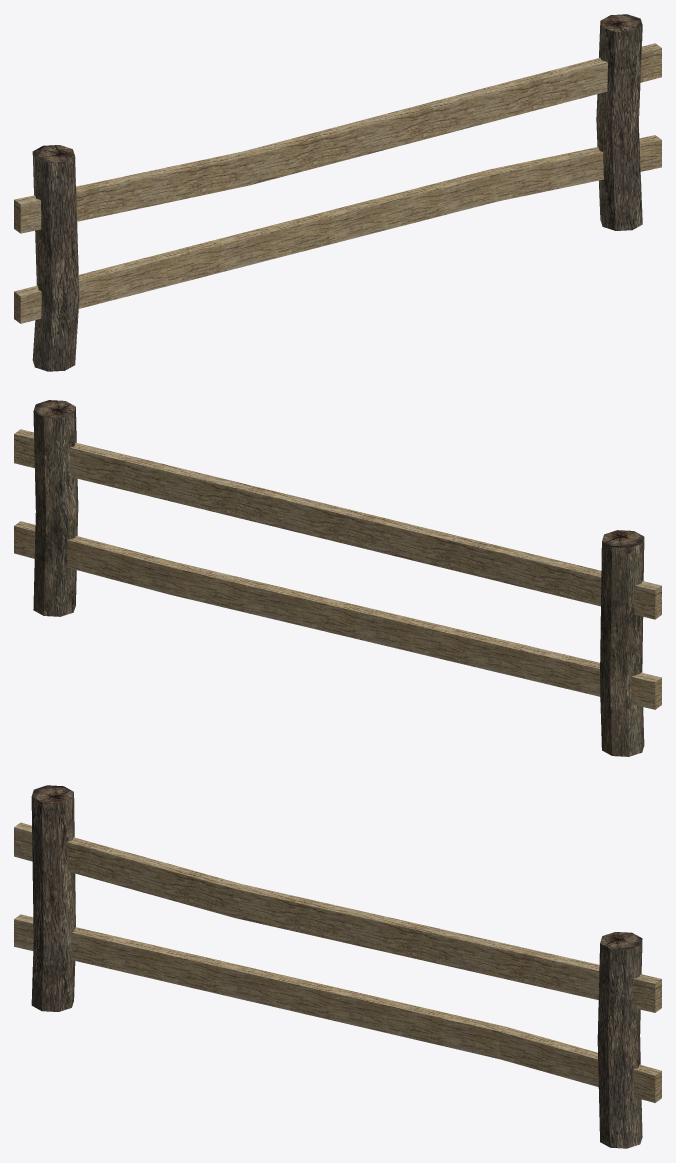
The model's file is Fence.obj.
The picture shows the model from 3 angles, top to bottom: view 1: azimuth 30°, elevation 25°; view 2: azimuth 150°, elevation 25°; view 3: azimuth 330°, elevation 25°; orthographic projection.
Size of the model in its own units: 0.5984 by 0.1863 by 0.0393.
3 materials, 3 textured.
